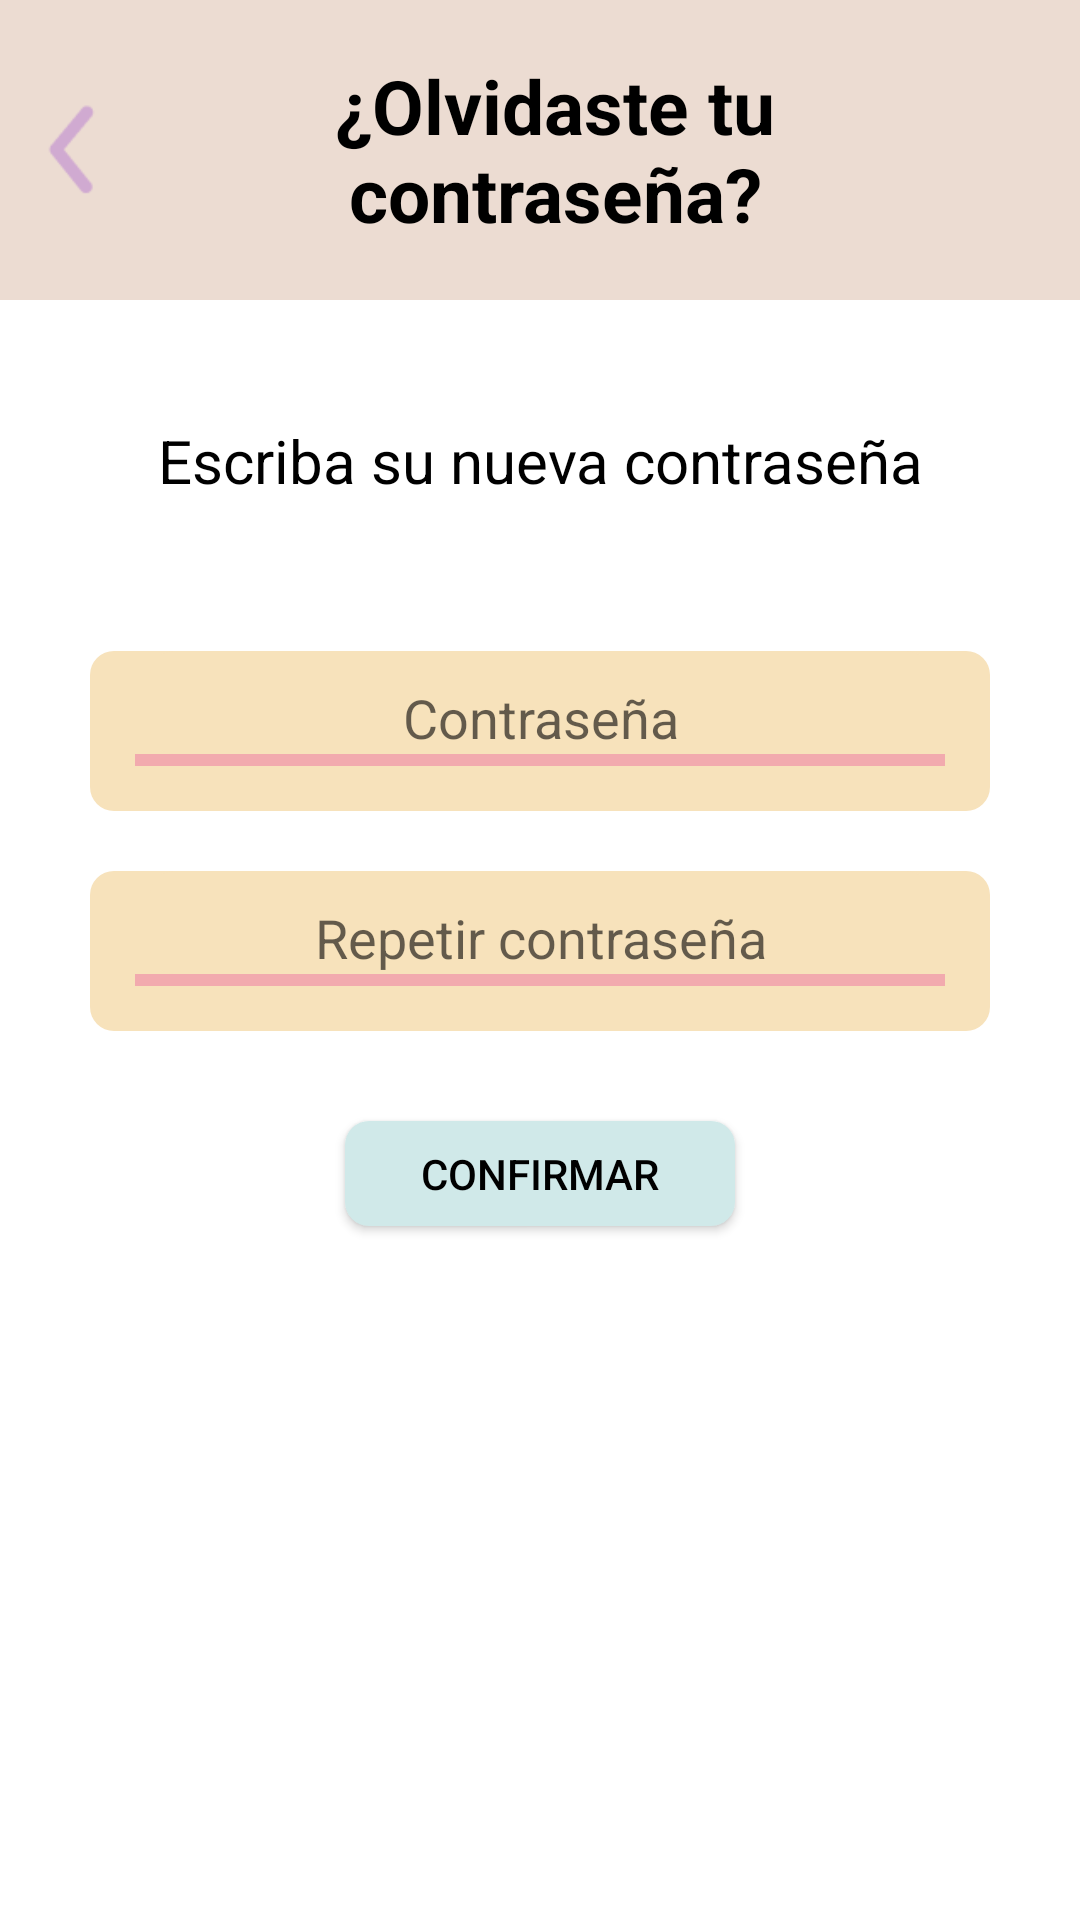

Icon click points for this 1080px x 1920px phone screenshot, format point (x, y):
back: point (71, 149)
